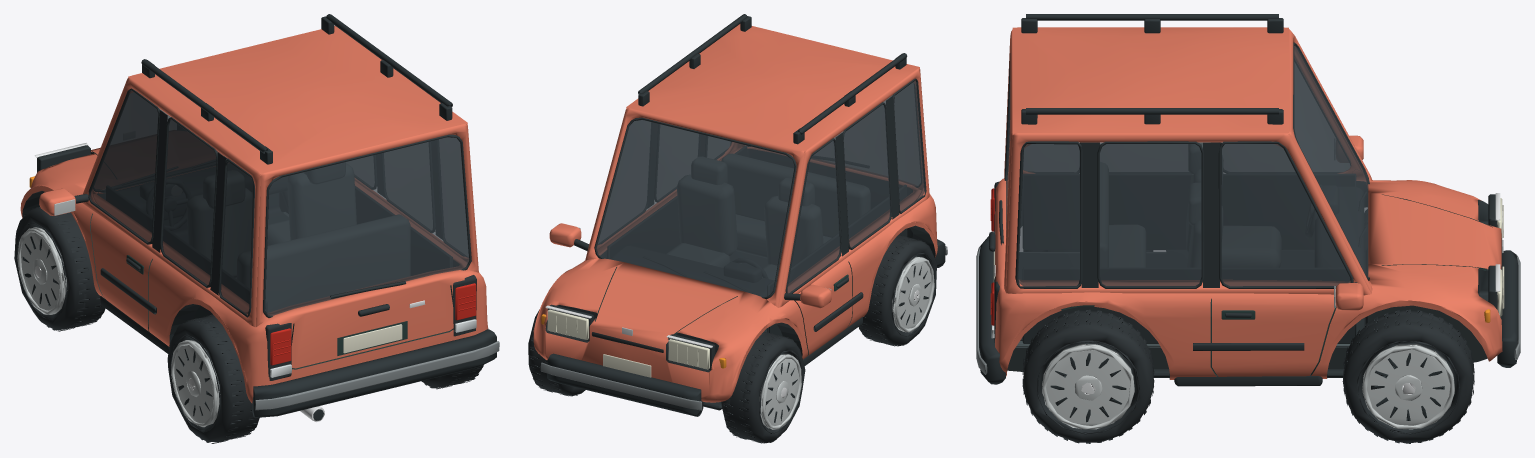
File: tallboy_lod2.fbx
The picture shows the model from 3 angles, left to right: view 1: azimuth 30°, elevation 25°; view 2: azimuth 150°, elevation 25°; view 3: azimuth 270°, elevation 25°; orthographic projection. The views are drawn at different scales.
Visible parts, largest first — view 1: Body, Wheel_RL_Mesh, Wheel_FL_Mesh, Wheel_RR_Mesh; view 2: Body, Wheel_FL_Mesh, Wheel_RL_Mesh, Wheel_FR_Mesh; view 3: Body, Wheel_RR_Mesh, Wheel_FR_Mesh.
Boxes of the visible parts, x1,y1,x2,y2 form: Body: [20, 14, 499, 422]; Wheel_RL_Mesh: [167, 314, 259, 443]; Wheel_FL_Mesh: [14, 207, 105, 331]; Wheel_RR_Mesh: [421, 365, 483, 389]; Body: [533, 14, 947, 416]; Wheel_FL_Mesh: [721, 332, 805, 443]; Wheel_RL_Mesh: [858, 235, 936, 346]; Wheel_FR_Mesh: [528, 309, 585, 396]; Body: [976, 14, 1520, 386]; Wheel_RR_Mesh: [1022, 309, 1154, 443]; Wheel_FR_Mesh: [1342, 309, 1474, 443].
Bounding box in the file's own units: 227 × 209 × 323.
